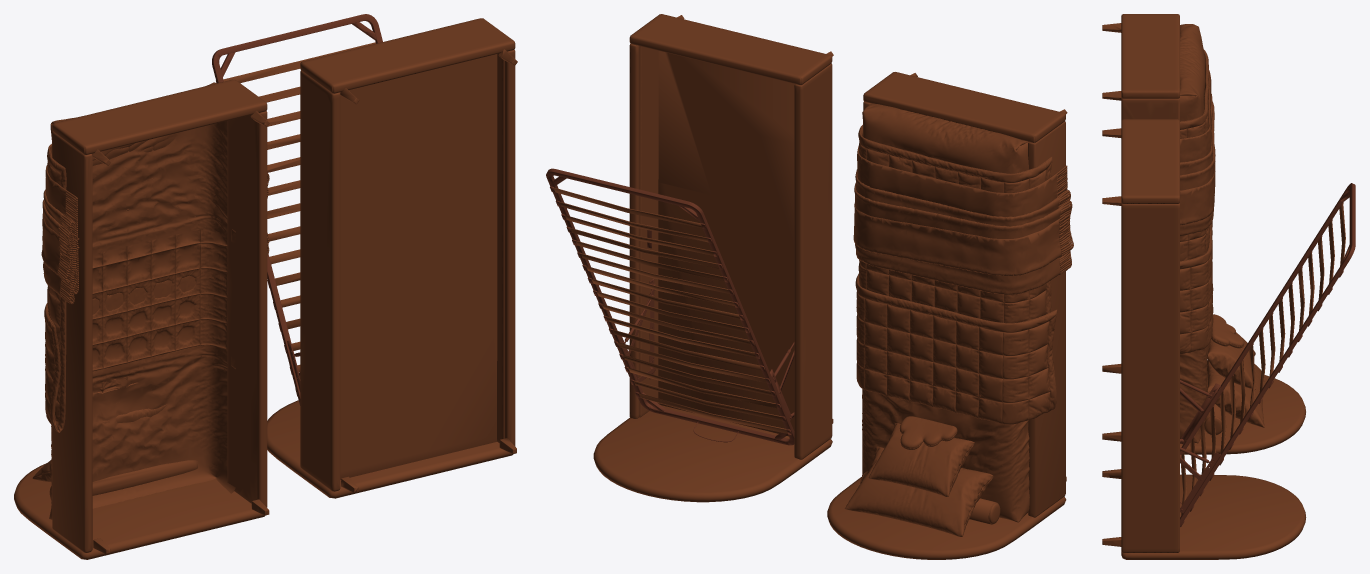
Rendered from 3dsky-om-oficial-model-krovat-cherry-odnospalnaia-dlia-detei-i-podrostkov.optimized.glb.
3 views of the same model, side by side, from view 1: azimuth 30°, elevation 25°; view 2: azimuth 150°, elevation 25°; view 3: azimuth 270°, elevation 25° (orthographic). The views are drawn at different scales.
Visible parts, largest first — view 1: Cherry_kids_bed_002, Cherry_kids_bed_016; view 2: Cherry_kids_bed_002, Cherry_kids_bed_016; view 3: Cherry_kids_bed_002, Cherry_kids_bed_016.
Boxes of the visible parts, x1,y1,x2,y2 form: Cherry_kids_bed_002: (14,18,517,559); Cherry_kids_bed_016: (212,14,382,405); Cherry_kids_bed_002: (553,14,1073,559); Cherry_kids_bed_016: (546,168,794,445); Cherry_kids_bed_002: (1102,14,1345,559); Cherry_kids_bed_016: (1180,183,1355,526).
Bounding box in the file's own units: 2387 × 2125 × 1337.
